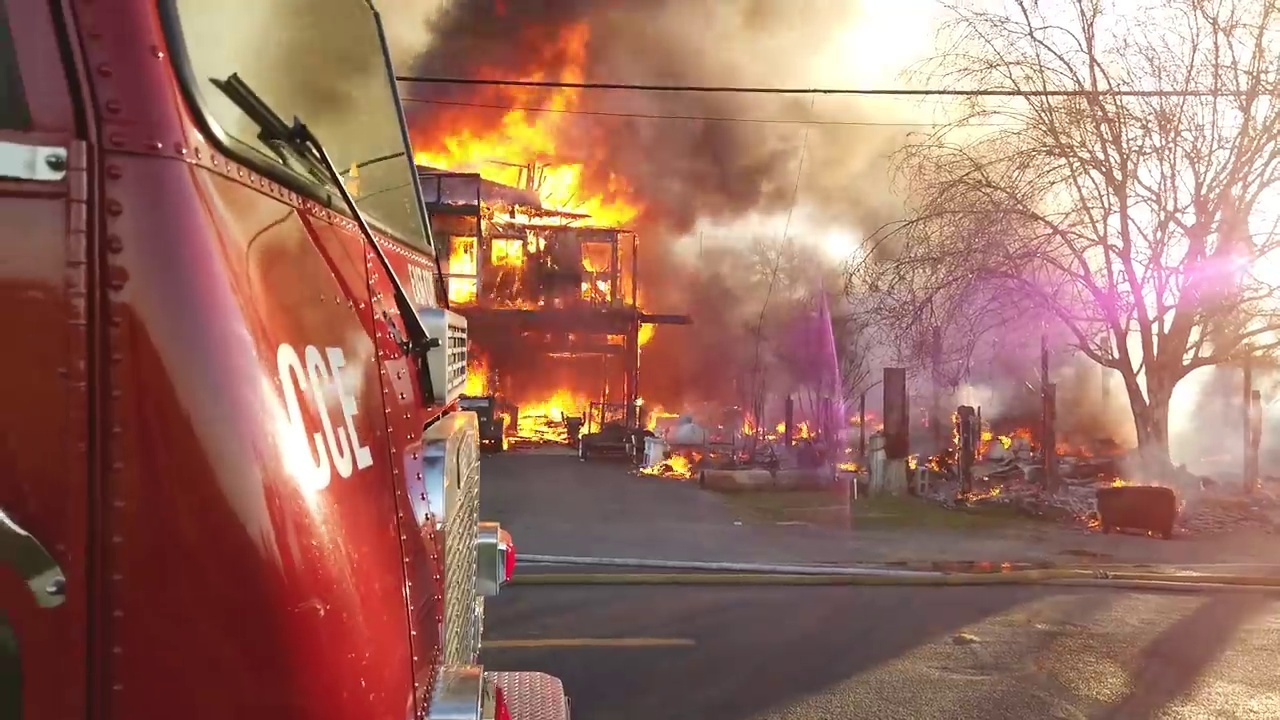fire: (414, 32, 632, 302), (510, 381, 597, 440), (734, 408, 819, 438), (637, 447, 702, 477), (577, 252, 610, 301), (639, 393, 674, 429), (632, 307, 658, 353), (499, 284, 544, 310), (994, 428, 1020, 454), (1058, 434, 1093, 453), (836, 457, 863, 471), (1104, 471, 1130, 484), (850, 410, 866, 423)
smoke: (621, 1, 880, 234), (638, 238, 898, 403), (853, 280, 1049, 401), (477, 325, 630, 376), (384, 4, 498, 63), (1180, 380, 1243, 477), (1053, 362, 1134, 433)
